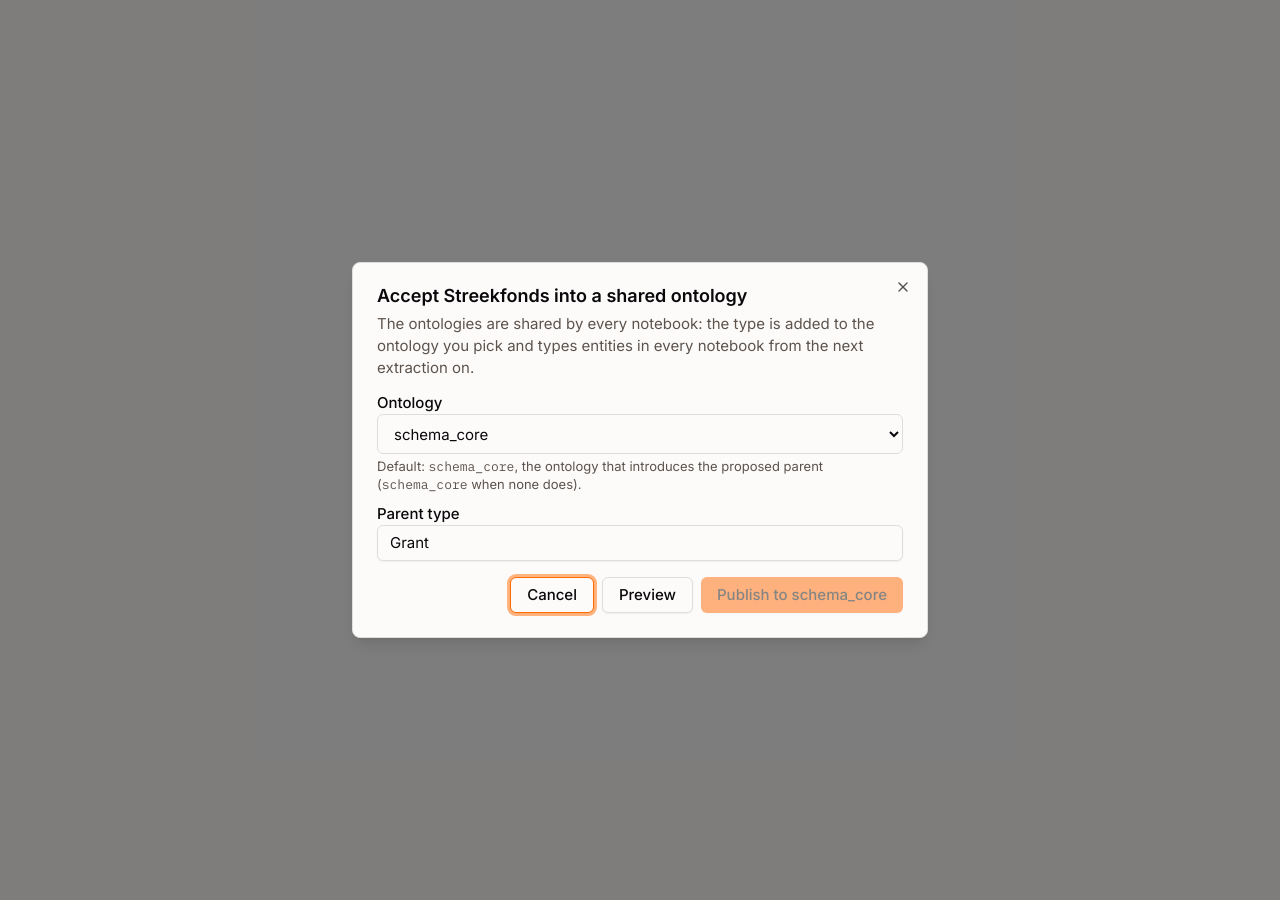
Test: AcceptExtensionDialog › the gate's refusal on publish shows its findings and keeps the dialog open
The image size is (1280, 900).
Click the button with test id "accept-preview": [647, 595] box left=602, top=577, right=693, bottom=613
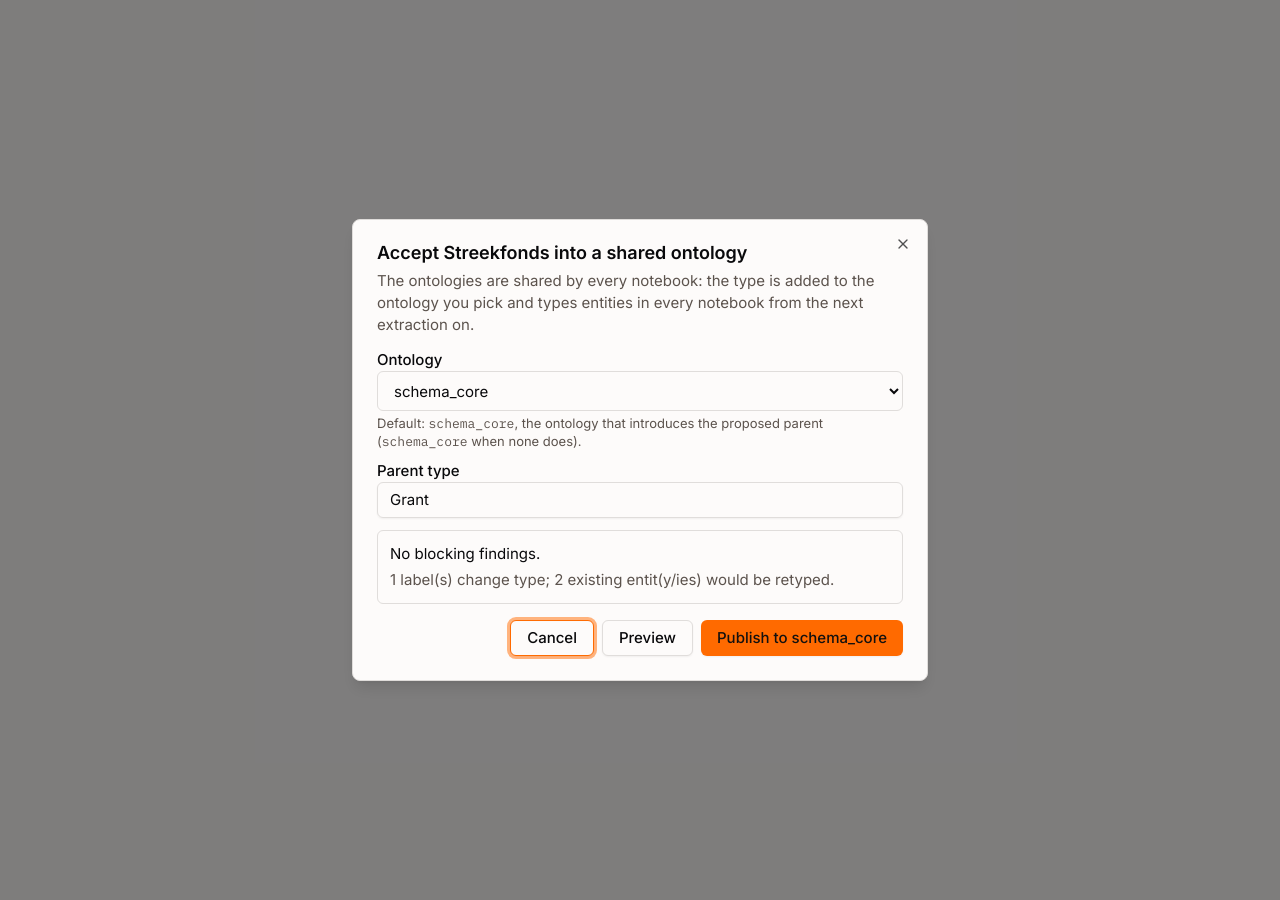
Result: the button with test id "accept-publish" is enabled
Click the button with test id "accept-publish": [802, 638] box left=701, top=620, right=903, bottom=656
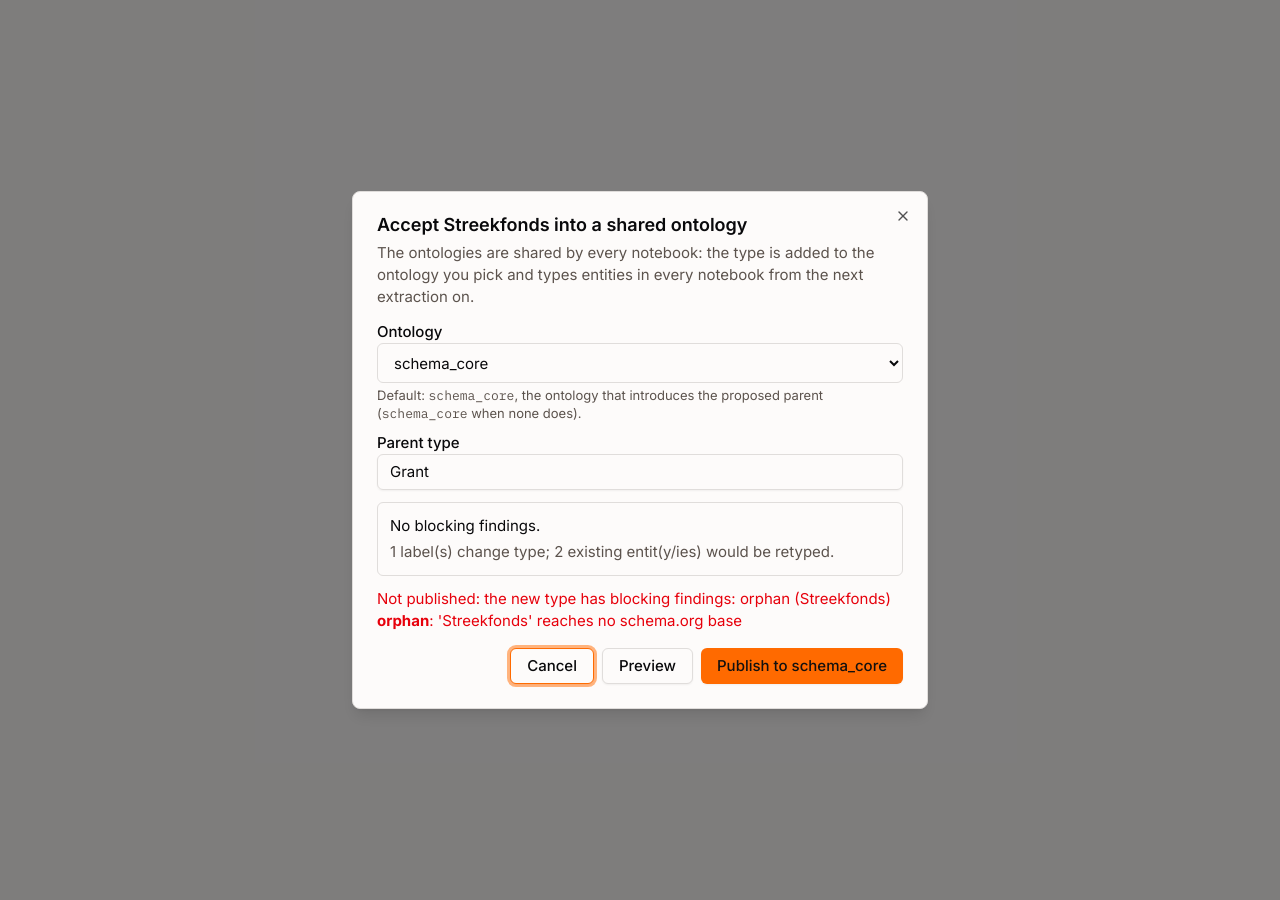
Result: the message with test id "accept-refused" shows "blocking findings" at left=484, top=589, right=891, bottom=608
Result: the message with test id "accept-refused" shows "'Streekfonds' reaches no schema.org base" at left=438, top=611, right=742, bottom=630
